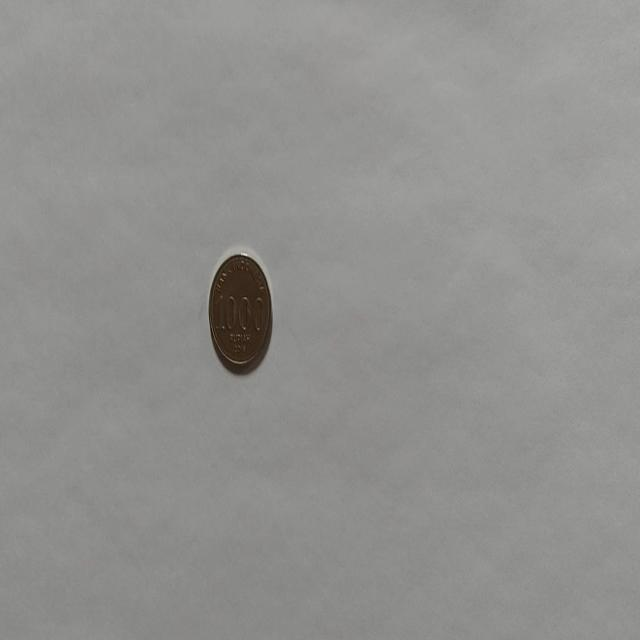seribu rupiah koin: (207, 248, 273, 374)
